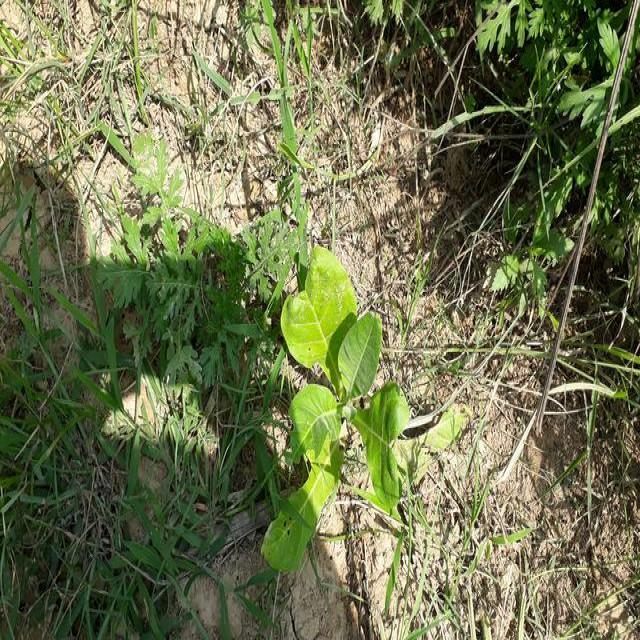crop: (274, 256, 412, 592)
